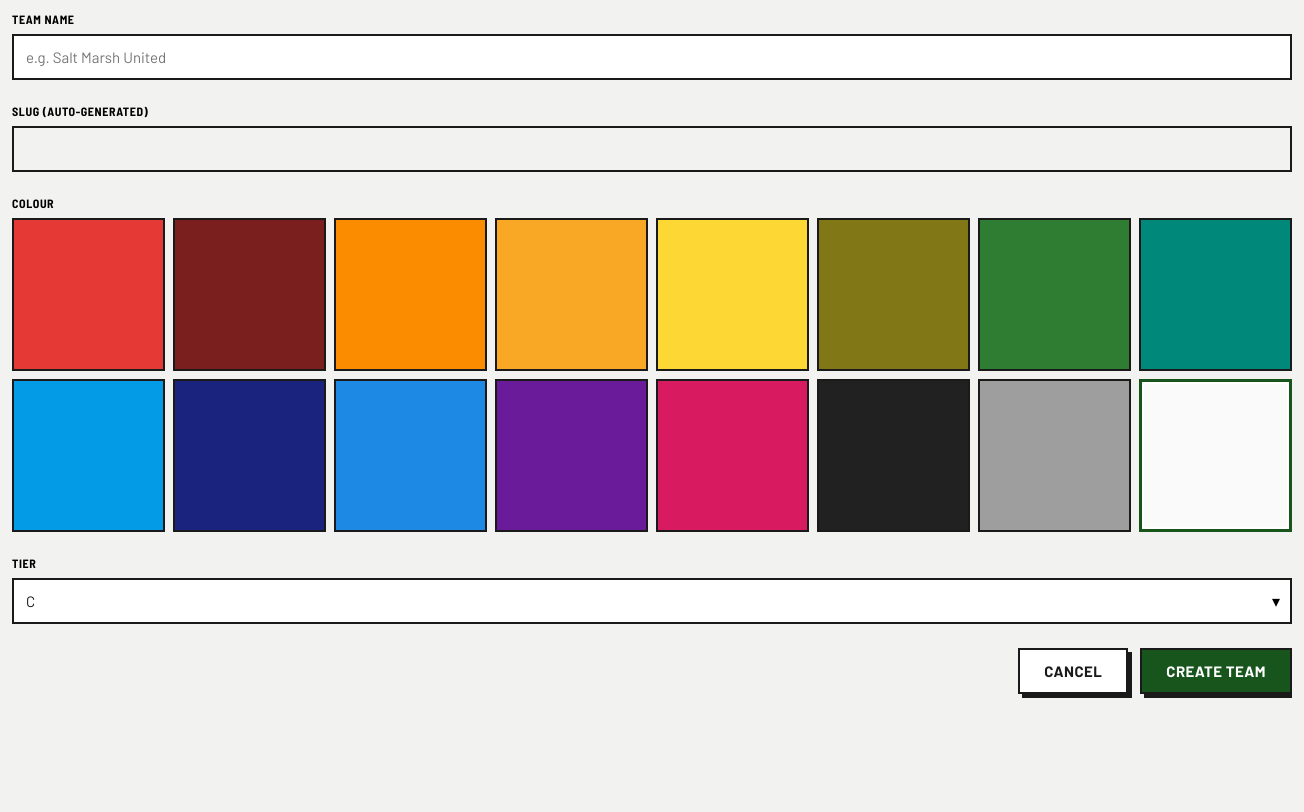
Scenario: TeamForm › shows a validation error and does not save when the name is blank
This screenshot has width=1304, height=812.
Click the button "Create team" at (1216, 671), box [1140,648,1292,694]
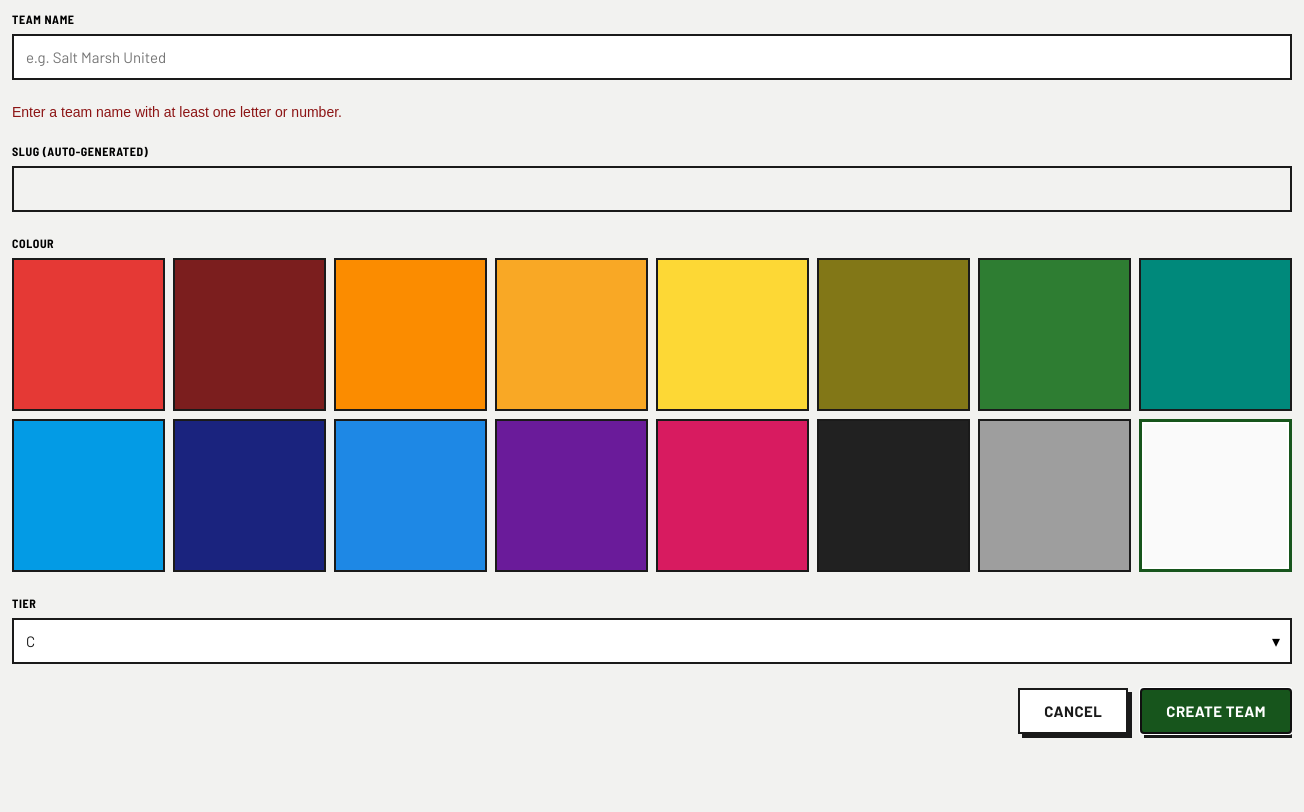
expect the text "Enter a team name with at least one letter or number." is shown: met, box [12,104,342,120]
